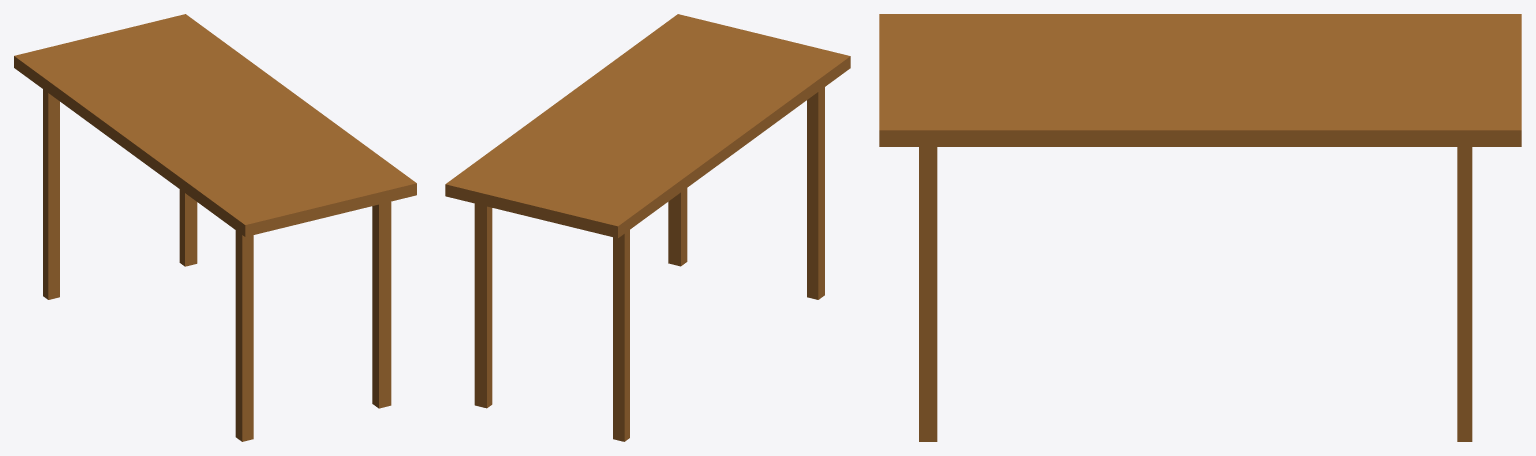
Rendered from Table.fbx.
3 views of the same model, side by side, from view 1: azimuth 30°, elevation 25°; view 2: azimuth 150°, elevation 25°; view 3: azimuth 270°, elevation 25° (orthographic). The views are drawn at different scales.
Parts seen in each view (by area): view 1: Desk; view 2: Desk; view 3: Desk.
Part boxes in pixels (x1,y1,x2,y2): Desk: (14, 14, 416, 441); Desk: (445, 14, 850, 441); Desk: (879, 14, 1521, 441).
Bounding box in the file's own units: 0.75 × 0.9603 × 1.75.
